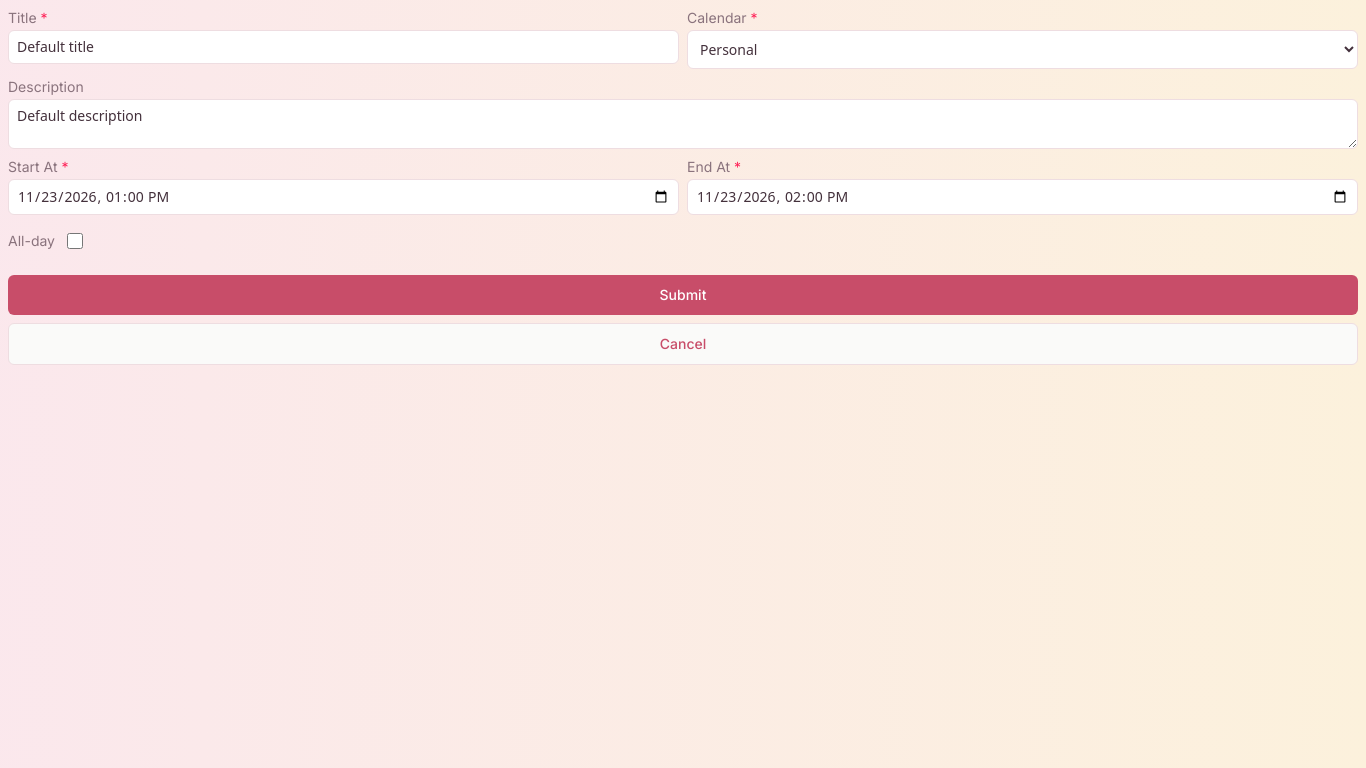
EventForm › Should set and subsequently use the timeCache when converting from datetime-local to date and back to datetime-local
This screenshot has width=1366, height=768.
Expected: the field labelled "Start At *" holds "2026-11-23T13:00", x1=8 y1=179 x2=679 y2=215
Expected: the field labelled "End At *" holds "2026-11-23T14:00", x1=687 y1=179 x2=1358 y2=215
Click the checkbox labelled "All-day": (75, 241) x1=67 y1=233 x2=83 y2=249
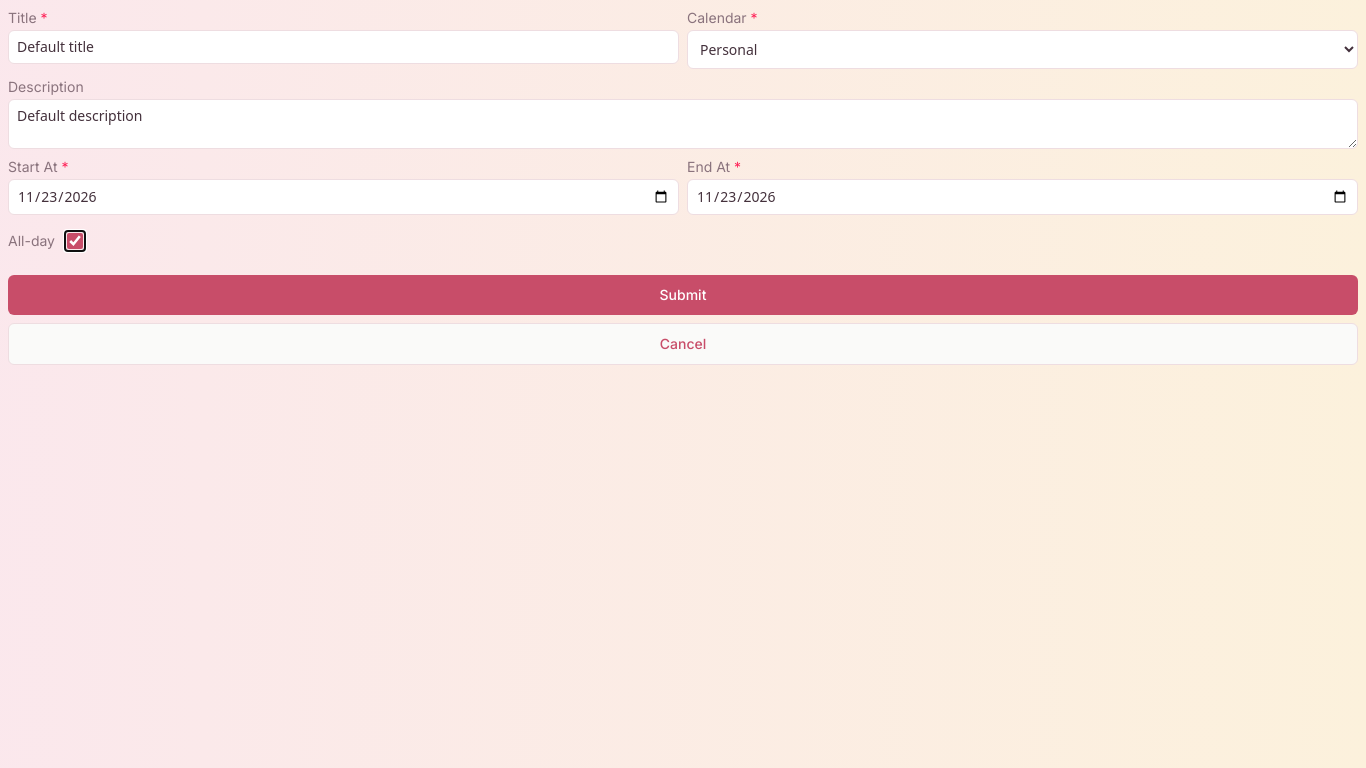
Expected: the date field labelled "Start At *" holds "2026-11-23", x1=8 y1=179 x2=679 y2=215
Expected: the date field labelled "End At *" holds "2026-11-23", x1=687 y1=179 x2=1358 y2=215
Click the checkbox labelled "All-day": (75, 241) x1=67 y1=233 x2=83 y2=249
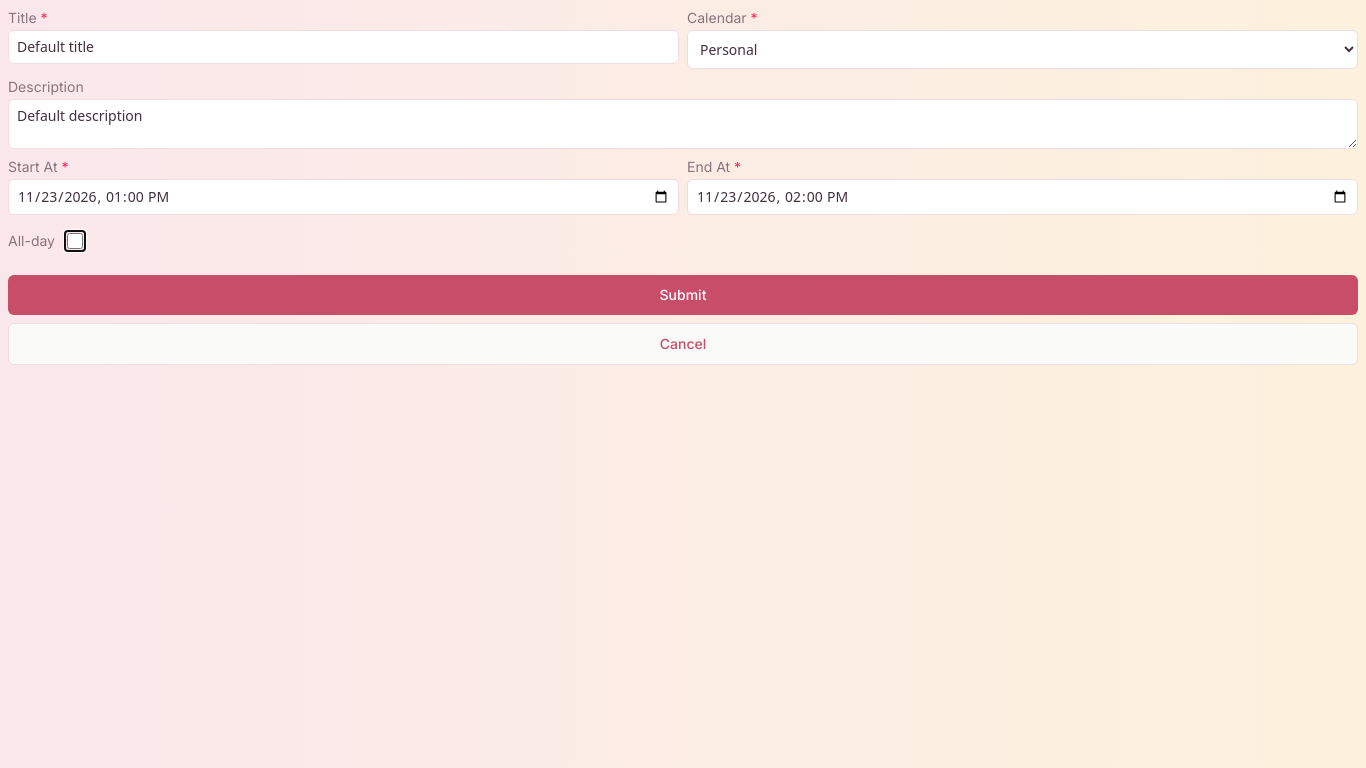
Expected: the field labelled "Start At *" holds "2026-11-23T13:00", x1=8 y1=179 x2=679 y2=215
Expected: the field labelled "End At *" holds "2026-11-23T14:00", x1=687 y1=179 x2=1358 y2=215
